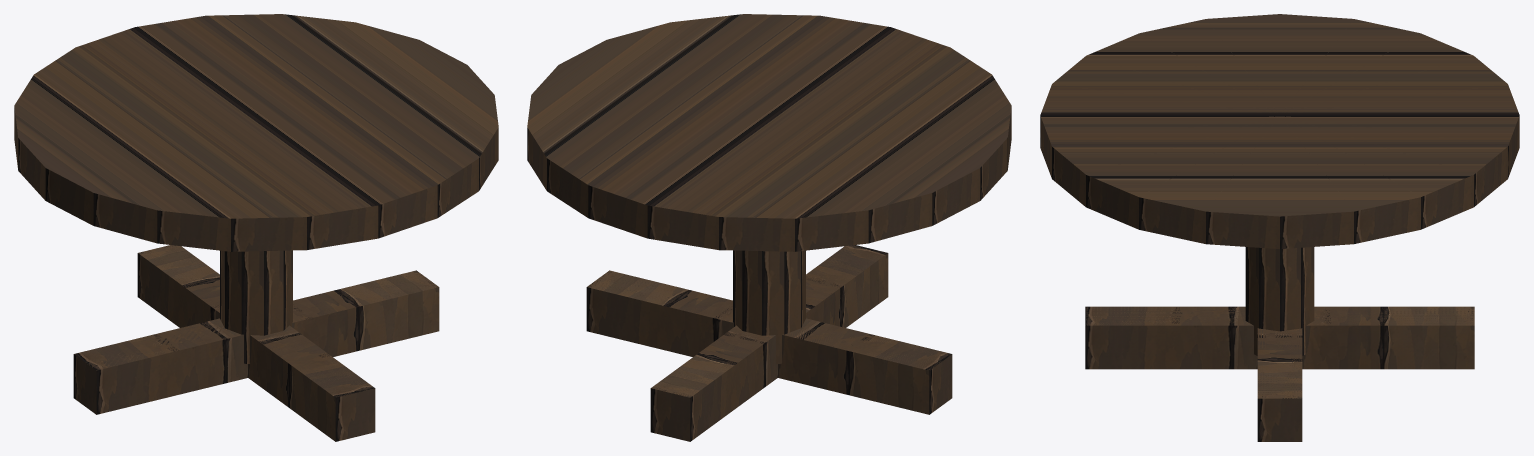
File: table_round_dark.glb
3 views of the same model, side by side, from view 1: azimuth 30°, elevation 25°; view 2: azimuth 150°, elevation 25°; view 3: azimuth 270°, elevation 25° (orthographic).
Visible parts, largest first — view 1: table_round_dark; view 2: table_round_dark; view 3: table_round_dark.
Part boxes in pixels (x1,y1,x2,y2): table_round_dark: (14, 14, 498, 441); table_round_dark: (527, 14, 1011, 441); table_round_dark: (1040, 14, 1519, 441).
Bounding box in the file's own units: 1.6 × 0.9 × 1.6.
1 material, 1 textured.
